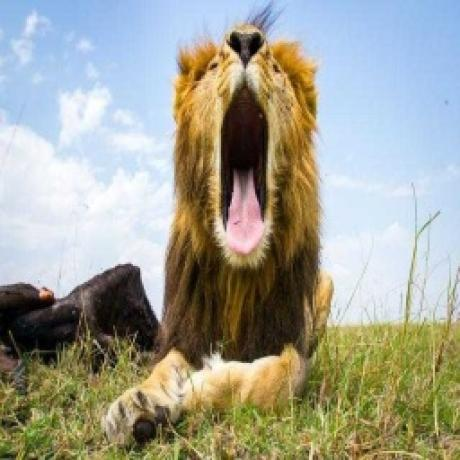Lion: (100, 13, 336, 436)
